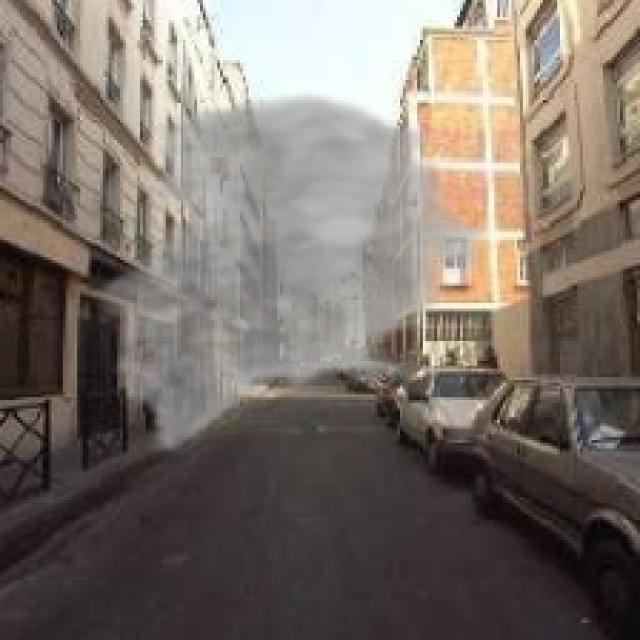smoke: (86, 89, 500, 457)
